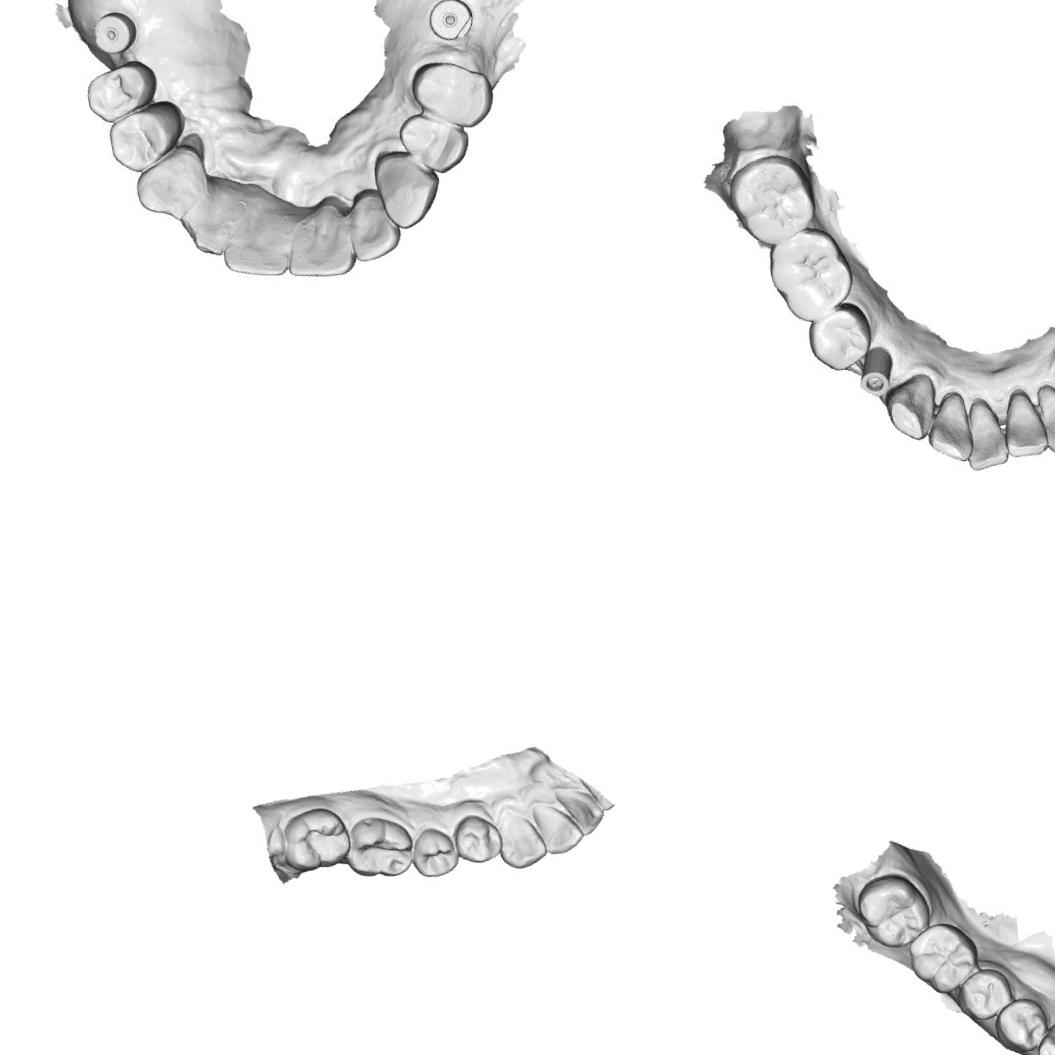canine: (124, 142, 211, 225), (368, 142, 445, 232), (876, 368, 944, 444), (492, 810, 548, 871), (1030, 1012, 1055, 1055)
implant: (850, 345, 902, 402), (82, 8, 137, 59), (421, 0, 472, 43)
incisor: (279, 198, 357, 286), (216, 202, 292, 282), (175, 190, 243, 265), (921, 391, 978, 470), (955, 395, 1010, 472), (346, 187, 402, 259), (997, 386, 1048, 461), (532, 796, 588, 858), (556, 779, 608, 839), (1029, 372, 1055, 455)
molar: (720, 144, 821, 250), (764, 223, 852, 319), (850, 864, 938, 955), (902, 915, 984, 1000), (274, 801, 355, 876), (339, 808, 418, 884)
premolar: (407, 50, 500, 138), (76, 55, 164, 127), (396, 104, 476, 182), (100, 102, 182, 176), (803, 296, 876, 370), (953, 962, 1018, 1026), (989, 991, 1054, 1055), (450, 808, 506, 868), (405, 822, 461, 881)
